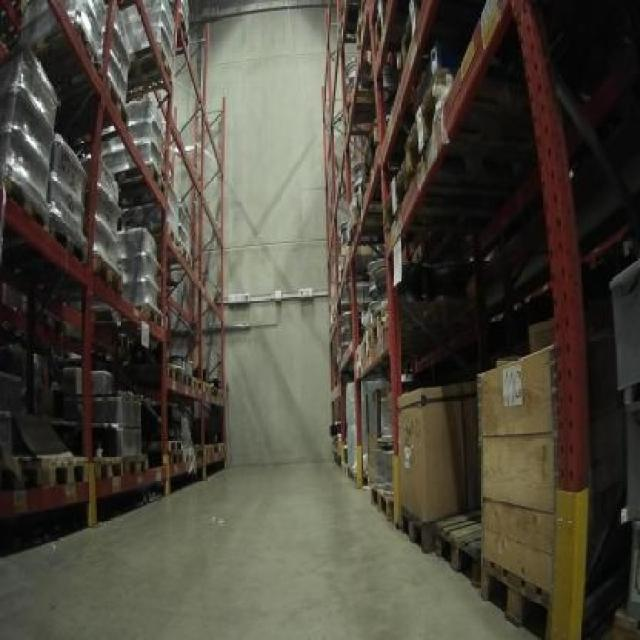pallets: (397, 380, 475, 517)
